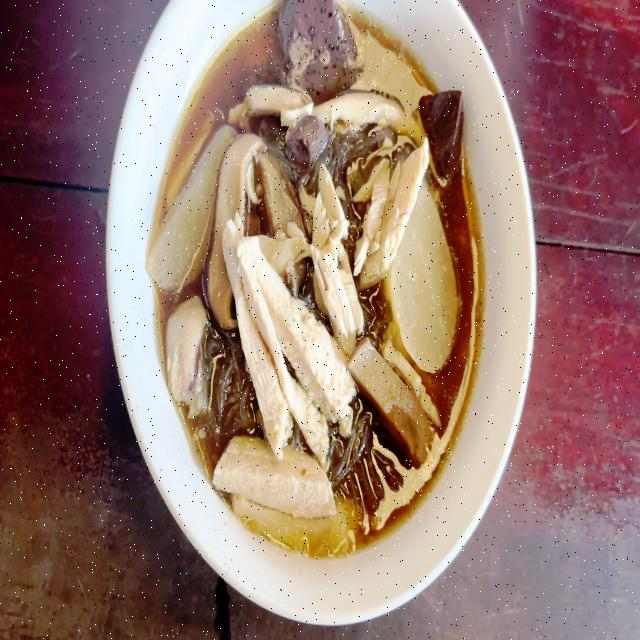boiled_chicken_blood_jelly: (280, 0, 356, 87), (413, 79, 466, 180), (283, 105, 333, 176)
chicken_shredded: (229, 216, 339, 464), (214, 427, 361, 561), (355, 148, 427, 292), (235, 78, 421, 129), (319, 162, 366, 346), (162, 299, 205, 413)
daikon_radish: (148, 120, 222, 292), (406, 215, 458, 368)
noodle: (160, 11, 475, 559)
